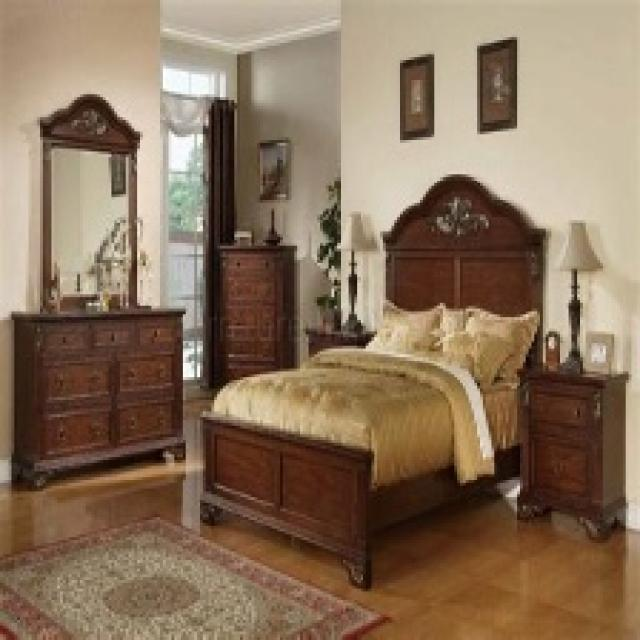Bed: (197, 172, 546, 588)
